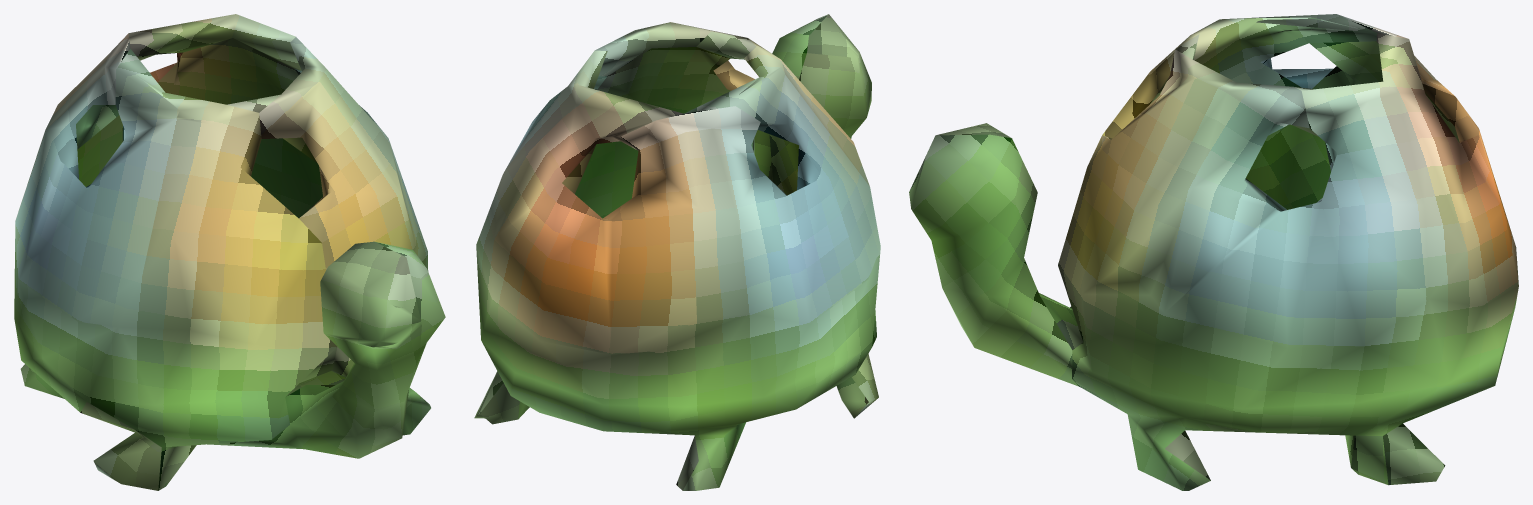
Rendered from Circo_Fish_Toothbrush_Holder_14995988-low.glb.
3 renders of one model, left to right at view 1: azimuth 30°, elevation 25°; view 2: azimuth 150°, elevation 25°; view 3: azimuth 270°, elevation 25°, orthographic. The views are drawn at different scales.
Parts seen in each view (by area): view 1: Circo_Fish_Toothbrush_Holder_14995988; view 2: Circo_Fish_Toothbrush_Holder_14995988; view 3: Circo_Fish_Toothbrush_Holder_14995988.
Boxes of the visible parts, bbox=[...] form: Circo_Fish_Toothbrush_Holder_14995988: bbox=[14, 14, 445, 490]; Circo_Fish_Toothbrush_Holder_14995988: bbox=[474, 14, 880, 490]; Circo_Fish_Toothbrush_Holder_14995988: bbox=[909, 14, 1518, 490].
Bounding box in the file's own units: 0.1045 × 0.1013 × 0.1524.
1 material, 1 textured.
